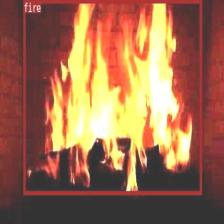fire: (23, 0, 201, 194)
